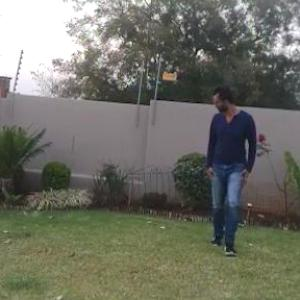follow: (202, 74, 258, 258)
